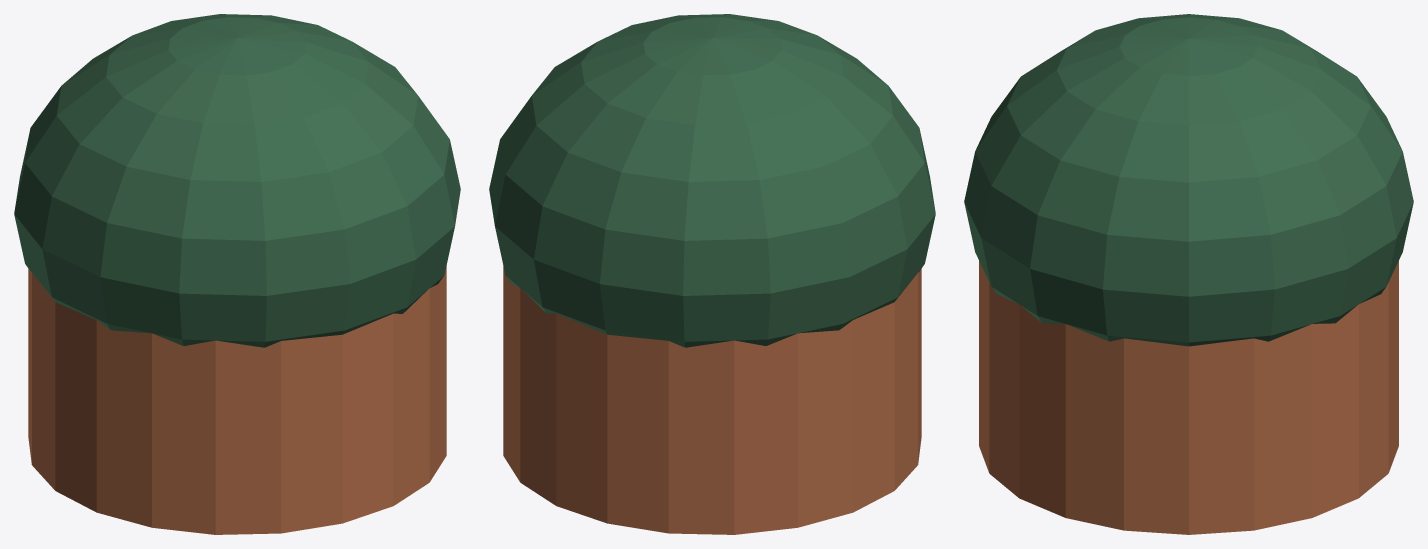
File: prop_pot_2.glb
3 views of the same model, side by side, from view 1: azimuth 30°, elevation 25°; view 2: azimuth 150°, elevation 25°; view 3: azimuth 270°, elevation 25° (orthographic).
Parts seen in each view (by area): view 1: PROP_Pot_2; view 2: PROP_Pot_2; view 3: PROP_Pot_2.
Part boxes in pixels (bbox=[...]): PROP_Pot_2: bbox=[14, 14, 460, 534]; PROP_Pot_2: bbox=[489, 14, 935, 534]; PROP_Pot_2: bbox=[964, 14, 1413, 534].
Bounding box in the file's own units: 0.6 × 0.6 × 0.6.
